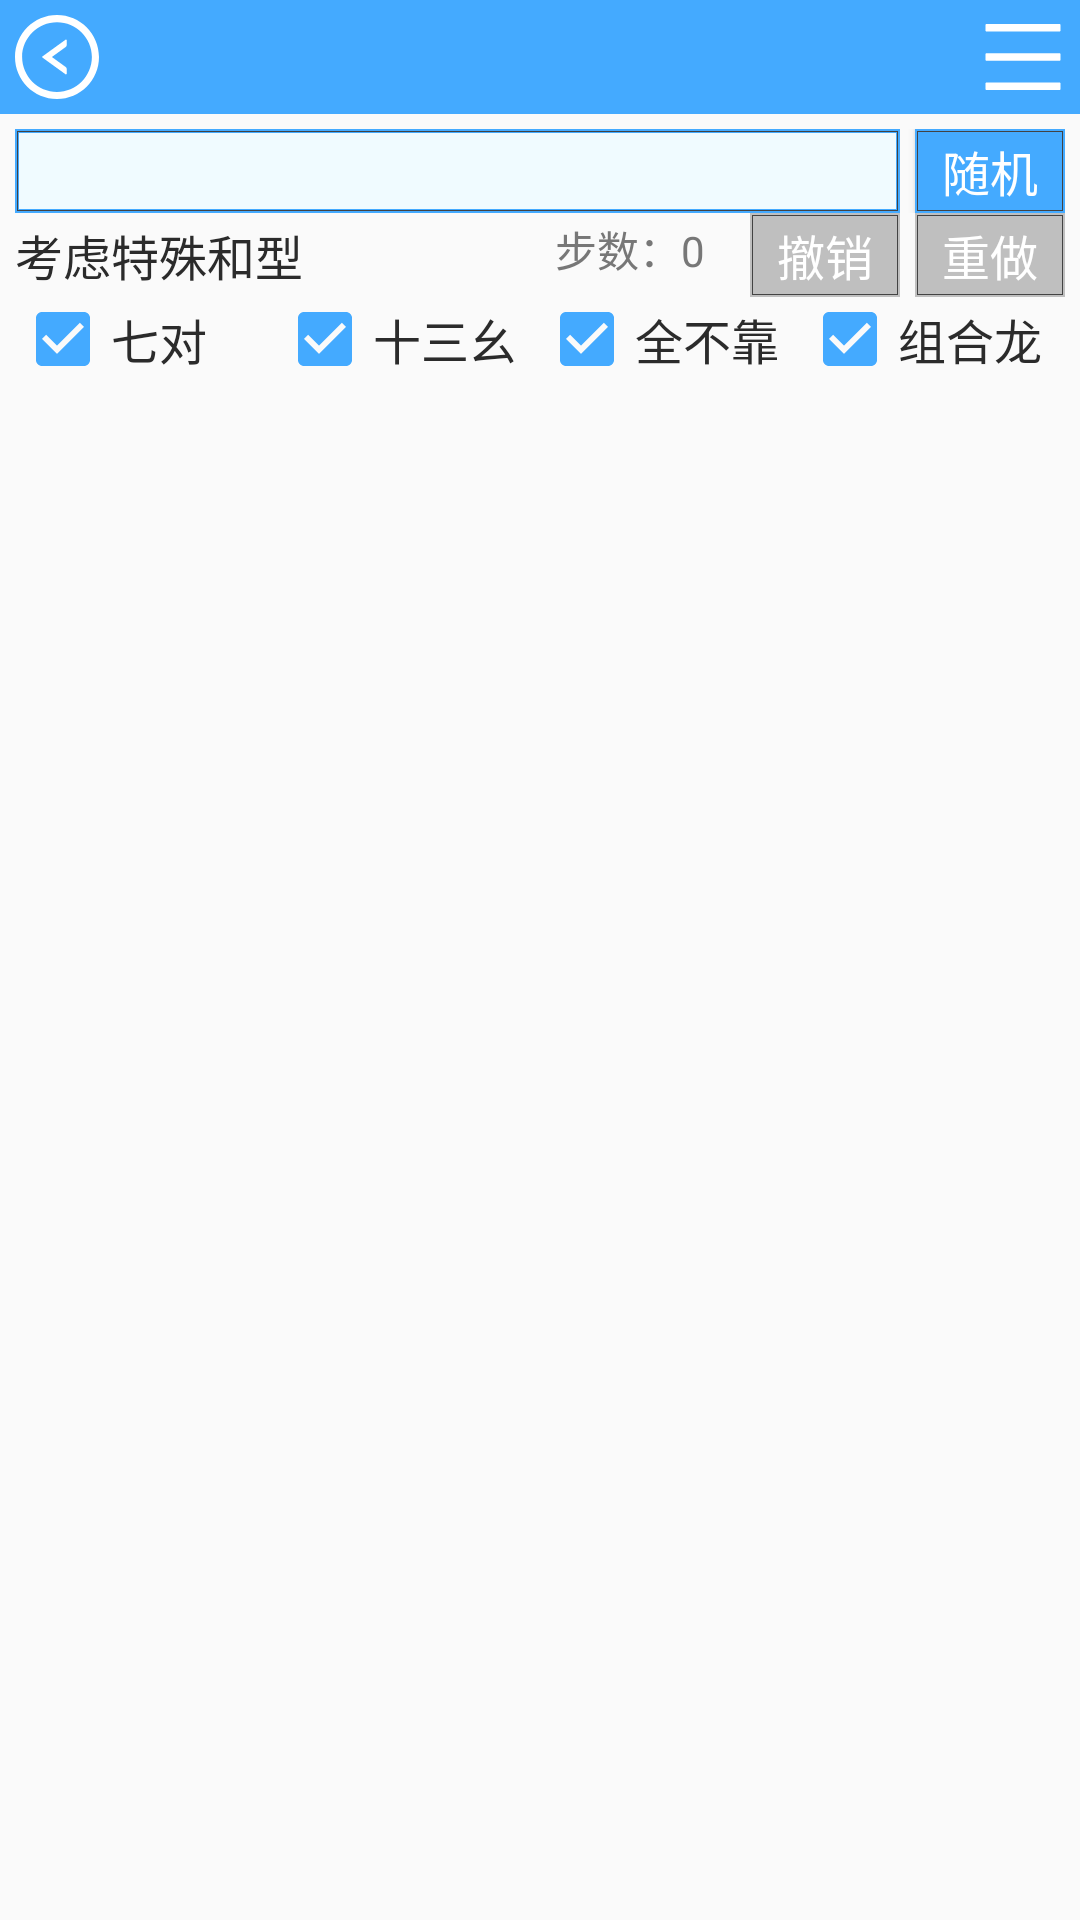

Point at icon controls on the screen. Image size 1080px×1920px, points as point (x, y).
arrow left: point (57, 57)
menu: point (1023, 57)
